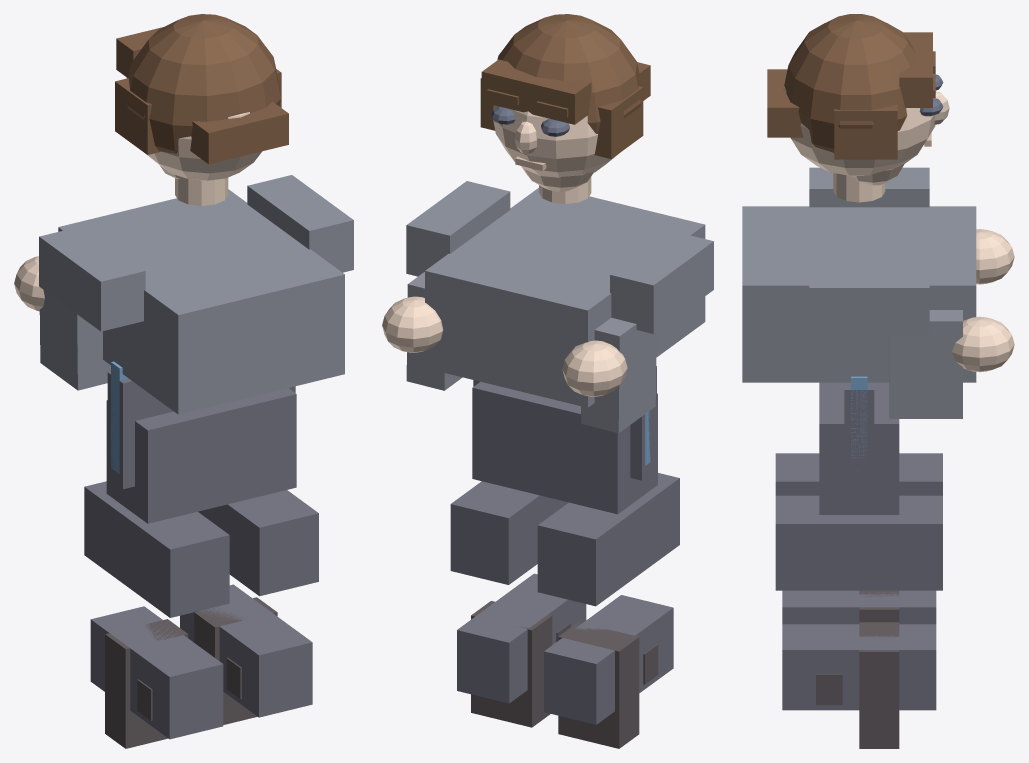
The model's file is character.glb.
The picture shows the model from 3 angles, left to right: view 1: azimuth 30°, elevation 25°; view 2: azimuth 150°, elevation 25°; view 3: azimuth 270°, elevation 25°; orthographic projection. The views are drawn at different scales.
Visible parts, largest first — view 1: Torso, Hips, HairCap, Thigh_-1, Shin_-1, Shin_1, Thigh_1, UpperArm_-1, UpperArm_1, ForeArm_-1, HairBack, Shoe_-1 (+8 smaller); view 2: Torso, Hips, Thigh_-1, Shin_-1, Shin_1, HairCap, Thigh_1, UpperArm_-1, UpperArm_1, ForeArm_-1, Shoe_-1, Head (+10 smaller); view 3: Torso, Thigh_1, HairCap, Shin_1, UpperArm_1, Hips, ForeArm_1, Shoe_1, Shin_-1, Thigh_-1, Belt, Head (+11 smaller).
Boxes of the visible parts, x1,y1,x2,y2 form: Torso: (58,189,344,414); Hips: (106,388,296,523); HairCap: (127,14,280,153); Thigh_-1: (84,481,229,617); Shin_-1: (90,606,223,739); Shin_1: (180,584,312,717); Thigh_1: (198,490,318,596); UpperArm_-1: (39,225,145,331); UpperArm_1: (247,175,353,272); ForeArm_-1: (39,290,110,390); HairBack: (190,101,288,164); Shoe_-1: (105,619,188,748); Torso: (425,188,705,407); Hips: (472,381,657,514); Thigh_-1: (537,473,679,606); Shin_-1: (544,595,673,724); Shin_1: (457,573,586,703); HairCap: (493,14,642,133); Thigh_1: (450,481,568,584); UpperArm_-1: (610,230,713,333); UpperArm_1: (406,181,510,276); ForeArm_-1: (581,317,656,433); Shoe_-1: (558,622,639,748); Head: (493,105,617,177); Torso: (742,206,976,382); Thigh_1: (775,495,942,590); HairCap: (784,14,916,152); Shin_1: (782,624,936,710); UpperArm_1: (809,266,929,336); Hips: (819,382,899,514); ForeArm_1: (889,310,962,418); Shoe_1: (859,622,899,748); Shin_-1: (782,590,936,624); Thigh_-1: (775,453,942,495); Belt: (844,382,874,493); Head: (783,86,936,176).
Size of the model in its own units: 0.85 by 2.28 by 0.8145.
